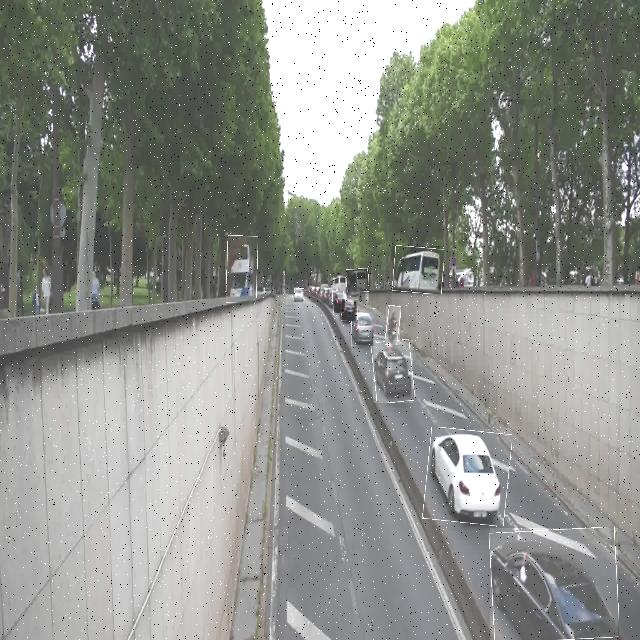Bus: (393, 246, 444, 293), (226, 236, 258, 303), (347, 269, 369, 292)
Car: (490, 528, 618, 640), (425, 429, 510, 525), (373, 340, 413, 403), (351, 308, 376, 346), (342, 299, 358, 321), (333, 291, 344, 313), (294, 288, 304, 299)
Motorcycle: (386, 306, 401, 345)
